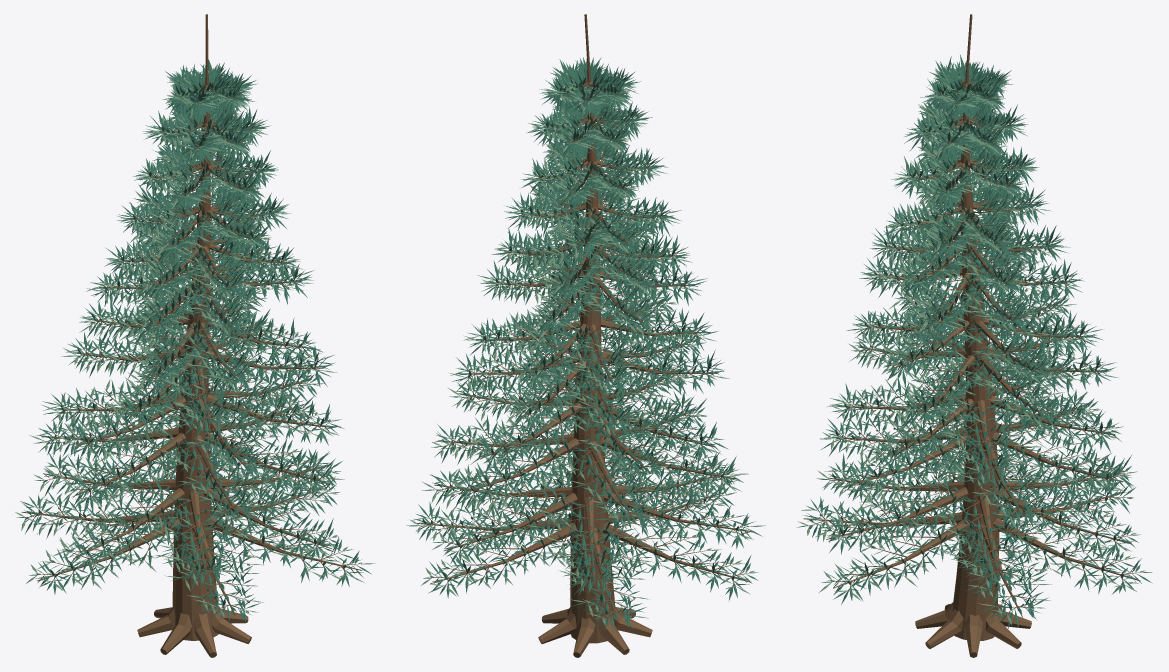
Rendered from fir.glb.
3 renders of one model, left to right at view 1: azimuth 30°, elevation 25°; view 2: azimuth 150°, elevation 25°; view 3: azimuth 270°, elevation 25°, orthographic.
Visible parts, largest first — view 1: fir_detailed.002; view 2: fir_detailed.002; view 3: fir_detailed.002.
Part boxes in pixels (left/top/right/bottom): fir_detailed.002: left=15, top=14, right=375, bottom=657; fir_detailed.002: left=406, top=14, right=765, bottom=657; fir_detailed.002: left=796, top=14, right=1152, bottom=657.
Bounding box in the file's own units: 5.61 × 10.05 × 5.24.
